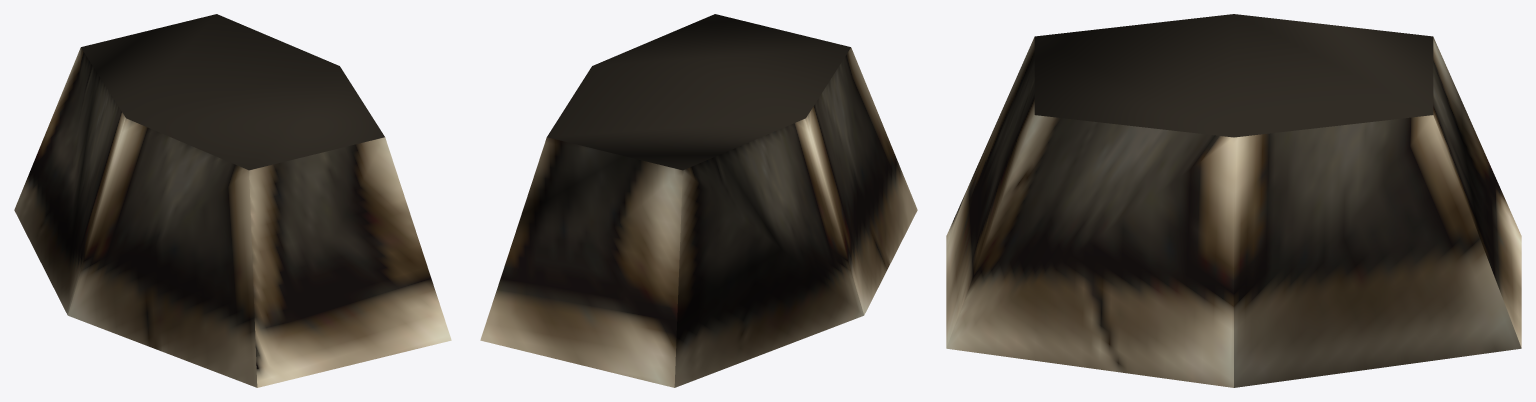
Rendered from HealthM.obj.
3 renders of one model, left to right at view 1: azimuth 30°, elevation 25°; view 2: azimuth 150°, elevation 25°; view 3: azimuth 270°, elevation 25°, orthographic. The views are drawn at different scales.
Parts seen in each view (by area): view 1: Group0; view 2: Group0; view 3: Group0.
Boxes of the visible parts, x1=… form: Group0: x1=14, y1=14, x2=451, y2=387; Group0: x1=480, y1=14, x2=917, y2=387; Group0: x1=946, y1=14, x2=1521, y2=387.
Bounding box in the file's own units: 21.76 × 13.44 × 27.72.
1 material, 1 textured.
